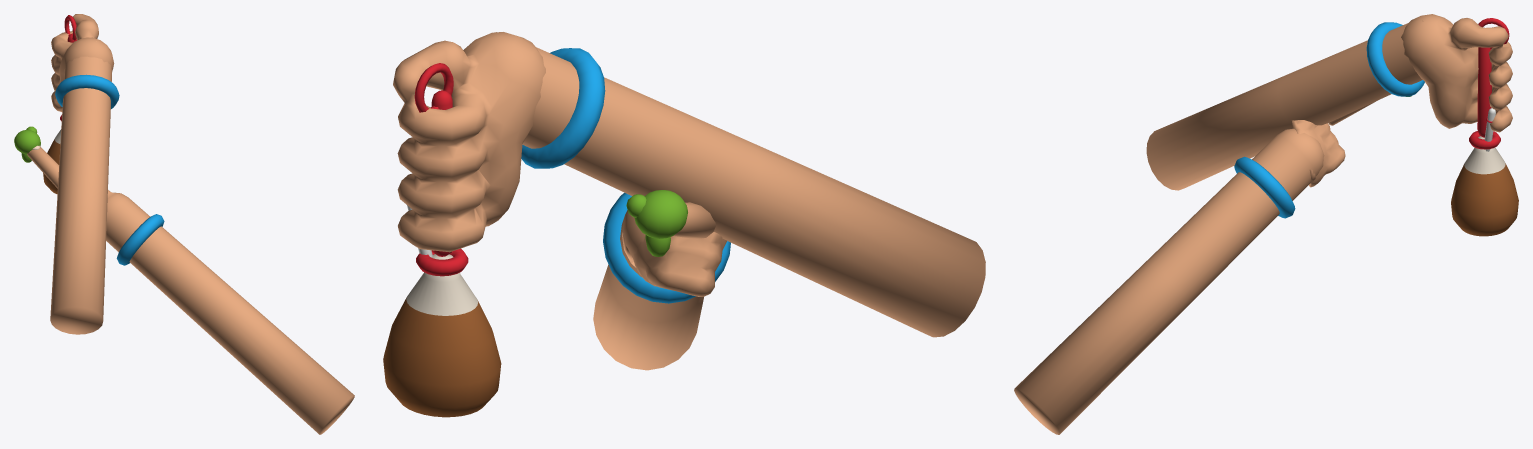
File: uncle.glb
3 views of the same model, side by side, from view 1: azimuth 30°, elevation 25°; view 2: azimuth 150°, elevation 25°; view 3: azimuth 270°, elevation 25° (orthographic). The views are drawn at different scales.
Parts seen in each view (by area): view 1: L, R, A; view 2: L, R, A; view 3: L, R.
Boxes of the visible parts, bbox=[...] form: L: bbox=[43, 14, 119, 334]; R: bbox=[27, 145, 354, 434]; A: bbox=[14, 126, 40, 162]; L: bbox=[383, 32, 985, 417]; R: bbox=[593, 192, 730, 370]; A: bbox=[626, 190, 687, 256]; L: bbox=[1146, 14, 1518, 236]; R: bbox=[1014, 100, 1377, 434].
Size of the model in its own units: 0.5183 by 0.6081 by 0.7489.
